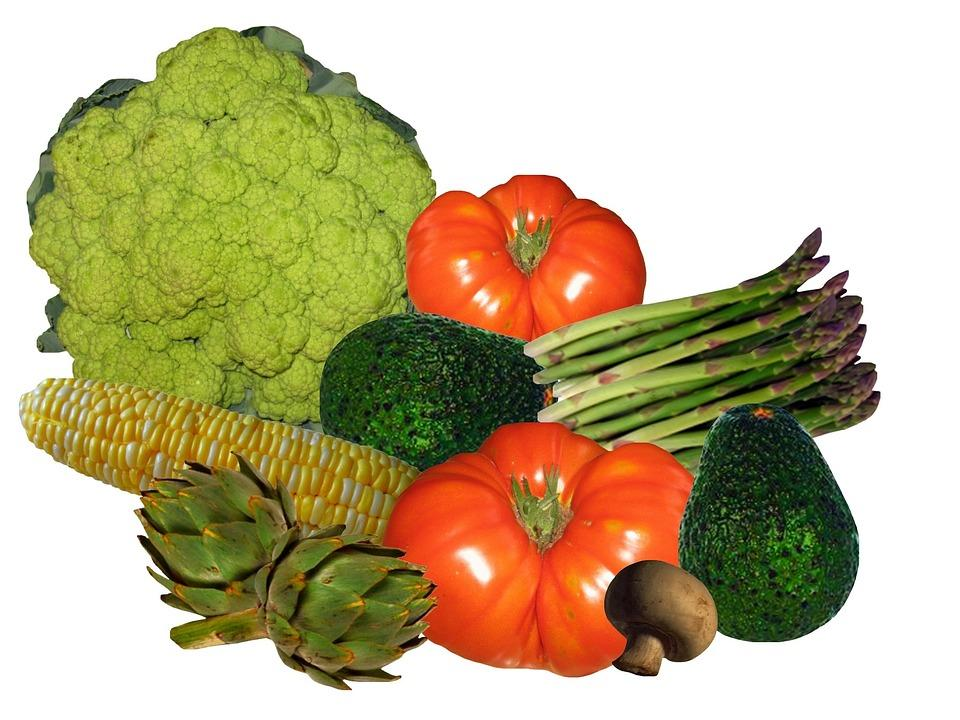bell pepper: (440, 167, 651, 364)
broccoli: (30, 22, 438, 420), (317, 314, 545, 472)
corn: (20, 355, 455, 575)
